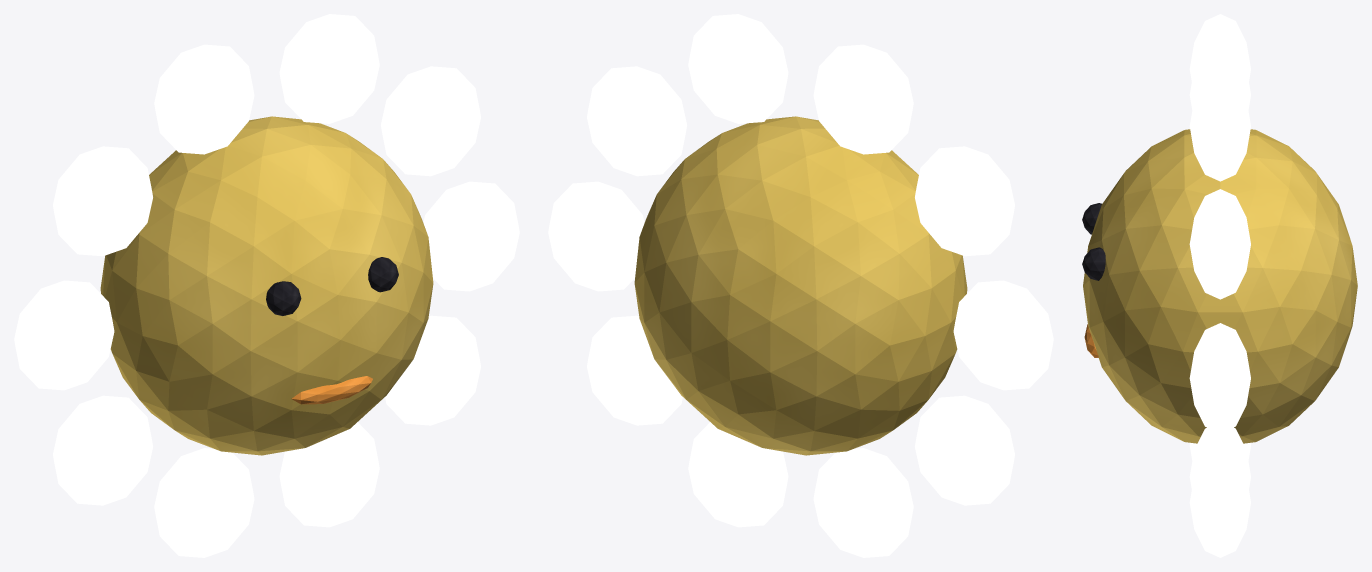
Rendered from vreugde.glb.
3 renders of one model, left to right at view 1: azimuth 30°, elevation 25°; view 2: azimuth 150°, elevation 25°; view 3: azimuth 270°, elevation 25°, orthographic. The views are drawn at different scales.
Visible parts, largest first — view 1: world; view 2: world; view 3: world.
Part boxes in pixels (<box>): world: <box>14,14,519,557</box>; world: <box>548,14,1053,557</box>; world: <box>1082,14,1357,557</box>.
Size of the model in its own units: 0.6151 by 0.6 by 0.313.
2 materials, 1 textured.
